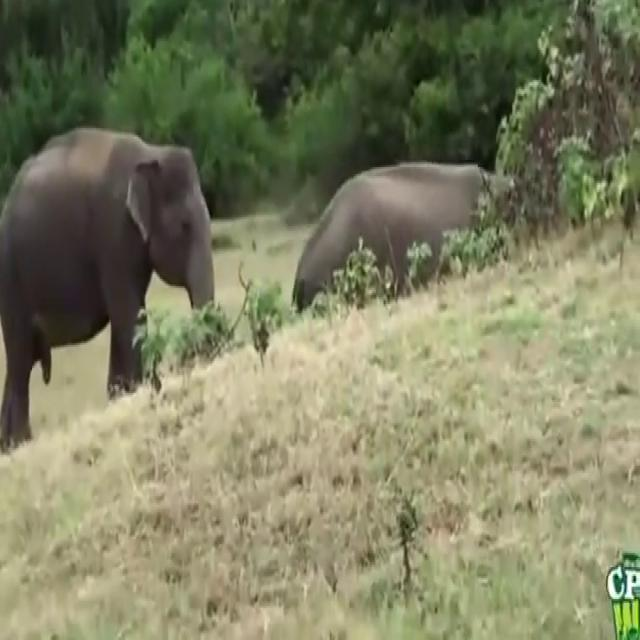Elephant: (0, 124, 215, 452), (290, 158, 523, 315)
